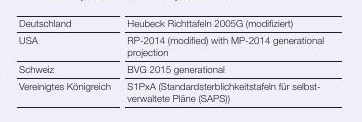table: (0, 0, 362, 122)
